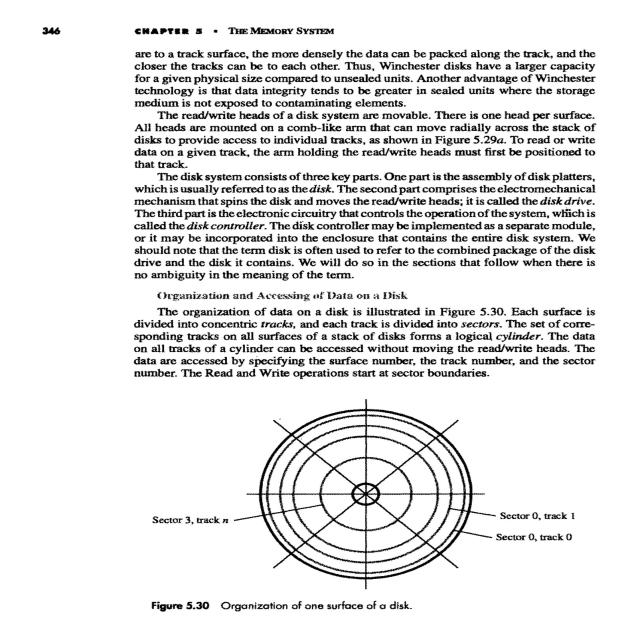diagram: (122, 381, 612, 618)
